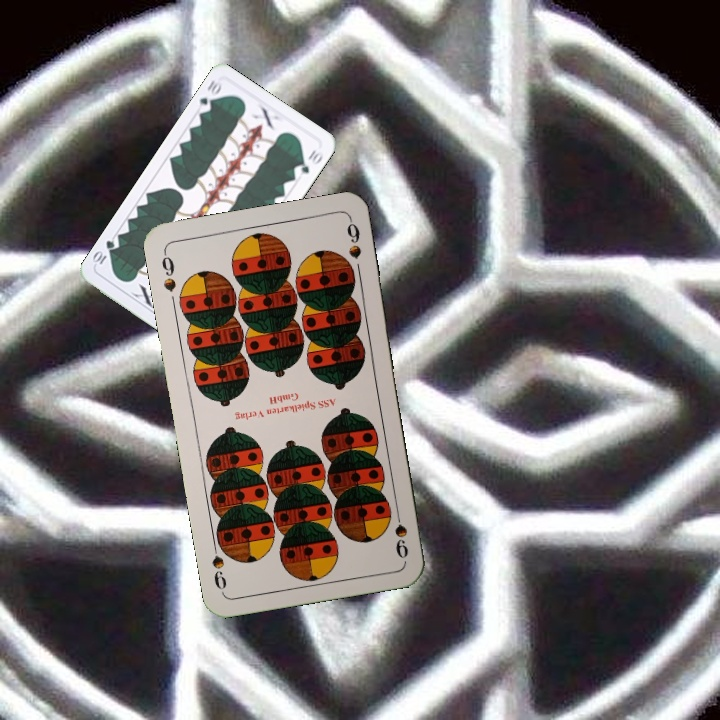G10: (194, 76, 224, 115)
S9: (391, 502, 411, 561), (157, 247, 179, 294)
